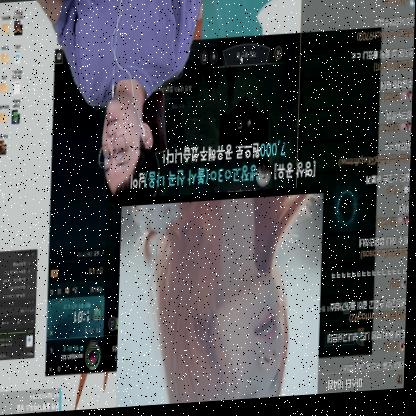donation: (118, 143, 326, 409)
streamer: (25, 0, 209, 222)
